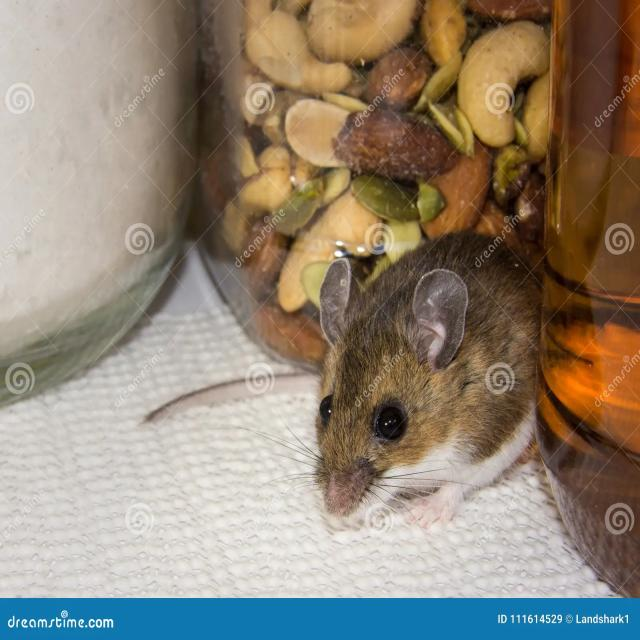rat: (236, 215, 580, 532)
